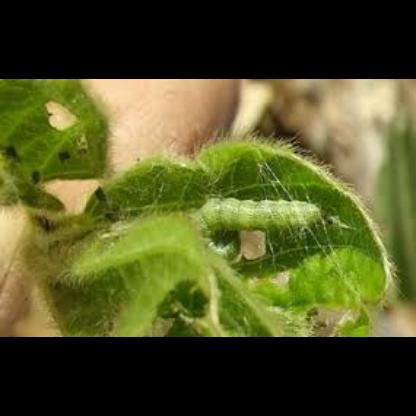oruga: (196, 200, 324, 236)
